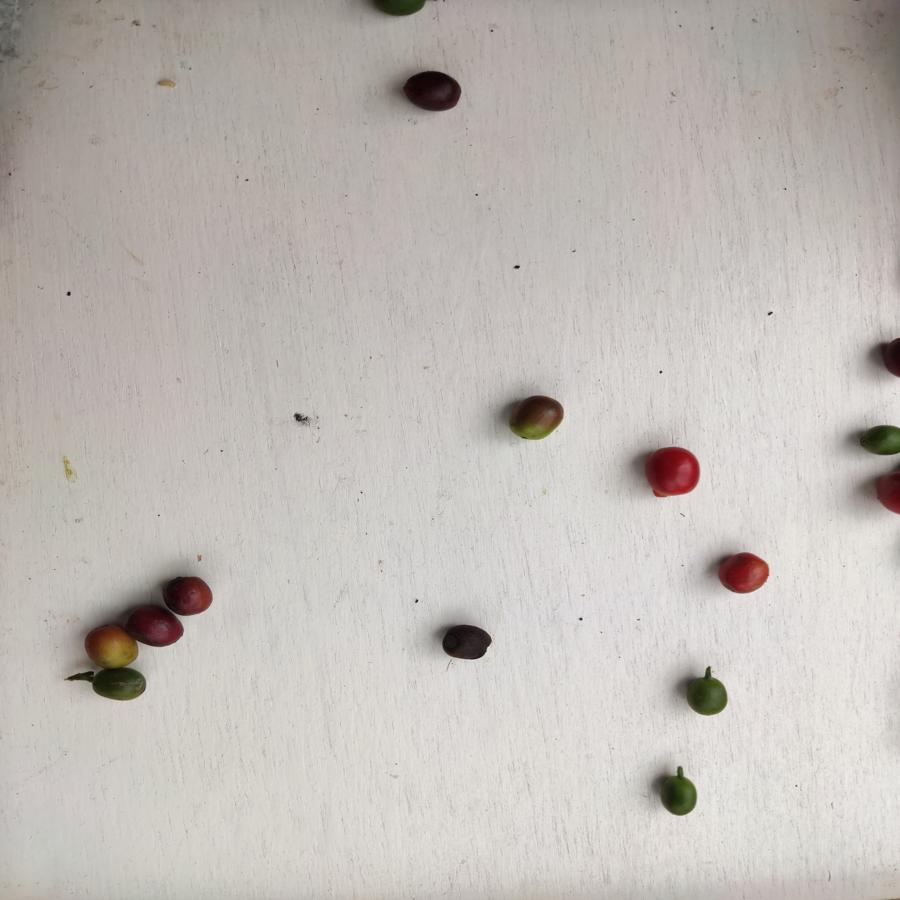Inmaduro: (683, 671, 733, 719), (88, 666, 151, 703), (657, 769, 701, 816), (859, 424, 900, 461)
Maduro: (640, 448, 703, 500), (719, 552, 773, 595)
Pinton: (507, 391, 568, 443), (79, 626, 140, 671)
Sobremaduro: (401, 70, 464, 114), (161, 574, 217, 618), (129, 608, 183, 647), (443, 623, 492, 664)
